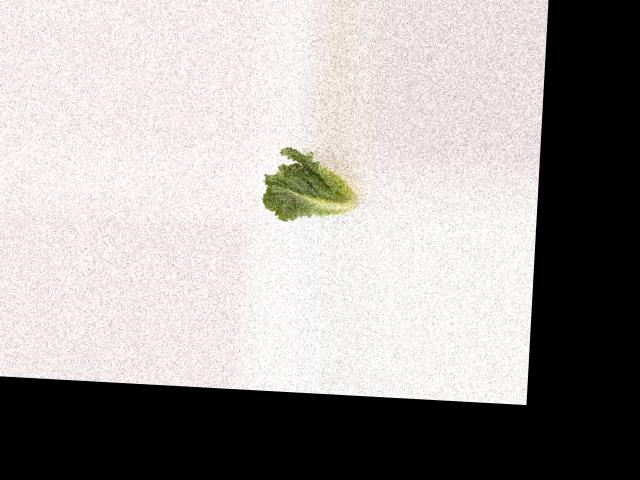lettuce: (258, 149, 371, 227)
